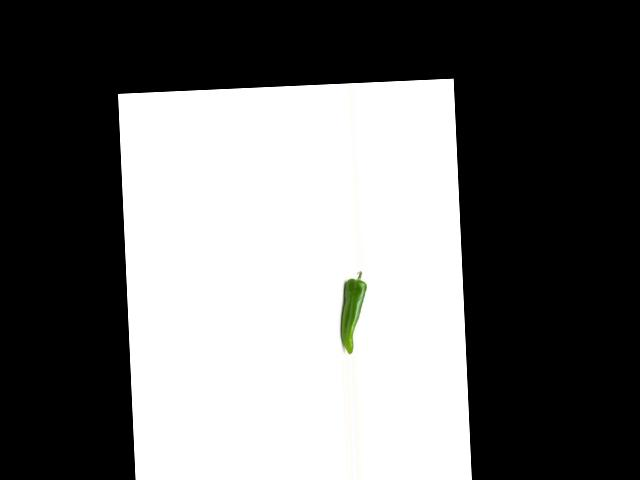bell_pepper: (336, 268, 371, 354)
